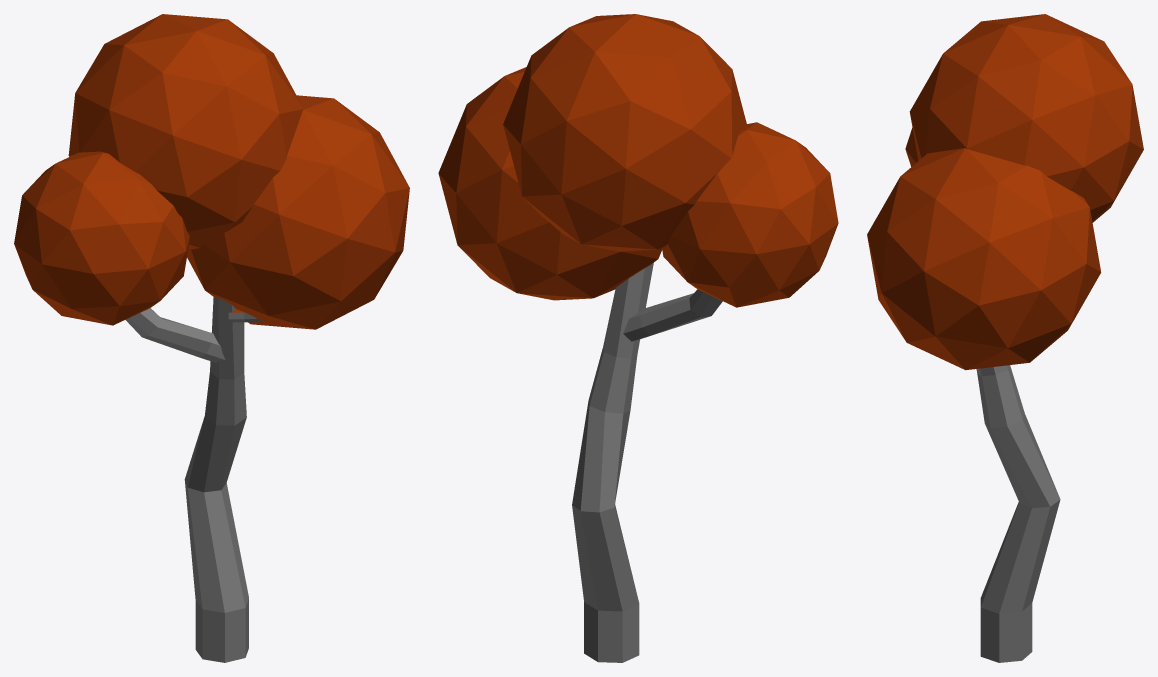
Rendered from Tree2.fbx.
The picture shows the model from 3 angles, left to right: view 1: azimuth 30°, elevation 25°; view 2: azimuth 150°, elevation 25°; view 3: azimuth 270°, elevation 25°; orthographic projection. The views are drawn at different scales.
Visible parts, largest first — view 1: Icosphere.002; view 2: Icosphere.002; view 3: Icosphere.002.
Part boxes in pixels (<box>): Icosphere.002: <box>14,14,409,662</box>; Icosphere.002: <box>438,14,838,662</box>; Icosphere.002: <box>867,14,1143,662</box>.
Bounding box in the file's own units: 357 × 587 × 240.
